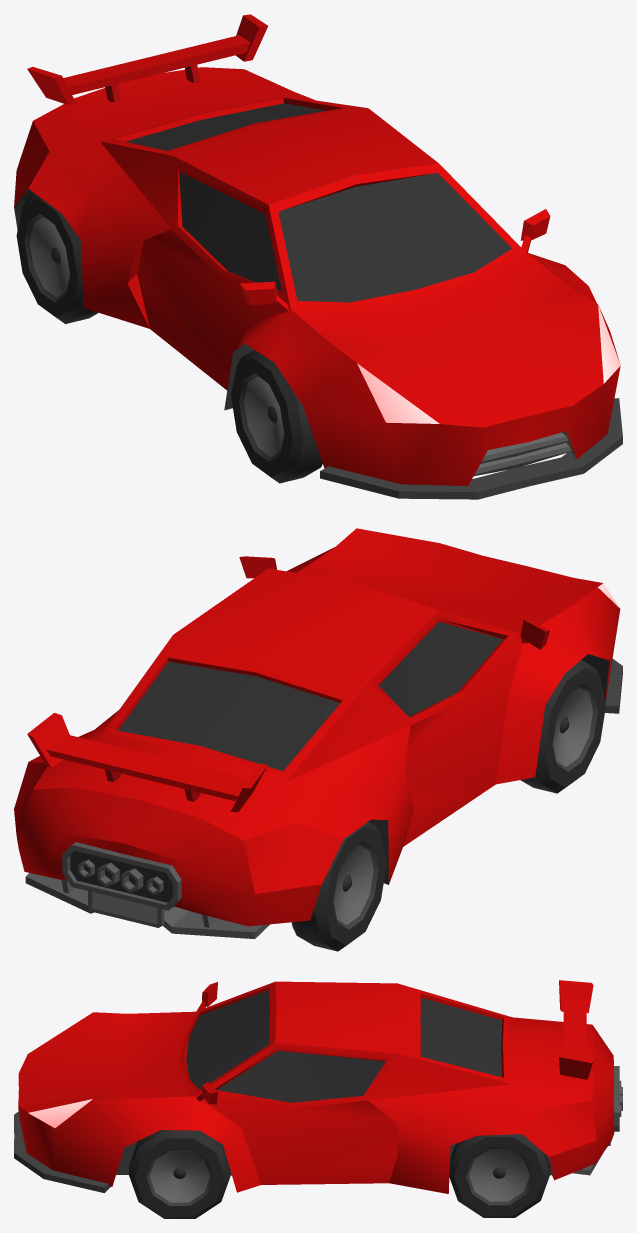
File: car_cube015.glb
The picture shows the model from 3 angles, top to bottom: view 1: azimuth 30°, elevation 25°; view 2: azimuth 150°, elevation 25°; view 3: azimuth 270°, elevation 25°; orthographic projection. The views are drawn at different scales.
Parts seen in each view (by area): view 1: Cube.015, Cylinder.023, Cylinder.027, Cube.019, Cube.017, Cube.107, Cube.018, Cube.109, Cube.108; view 2: Cube.015, Cylinder.027, Cylinder.023, Cube.017, Cube.021, Cube.112, Cube.107, Cube.130, Cube.018, Cylinder.024, Cube.019; view 3: Cube.015, Cylinder.023, Cylinder.027, Cube.019, Cube.017, Cube.107, Cube.018, Cube.021.
Part boxes in pixels (bbox=[...]): Cube.015: bbox=[14, 67, 620, 485]; Cylinder.023: bbox=[231, 350, 322, 483]; Cylinder.027: bbox=[16, 194, 98, 323]; Cube.019: bbox=[320, 398, 622, 499]; Cube.017: bbox=[63, 35, 250, 102]; Cube.107: bbox=[27, 14, 267, 104]; Cube.018: bbox=[239, 209, 550, 313]; Cube.109: bbox=[474, 442, 571, 474]; Cube.108: bbox=[481, 432, 568, 461]; Cube.015: bbox=[14, 528, 620, 926]; Cylinder.027: bbox=[291, 821, 386, 951]; Cylinder.023: bbox=[520, 660, 605, 793]; Cube.017: bbox=[46, 734, 248, 801]; Cube.021: bbox=[62, 842, 181, 910]; Cube.112: bbox=[25, 873, 269, 938]; Cube.107: bbox=[27, 713, 267, 812]; Cube.130: bbox=[88, 891, 164, 927]; Cube.018: bbox=[239, 556, 549, 649]; Cylinder.024: bbox=[97, 862, 143, 892]; Cube.019: bbox=[605, 659, 622, 713]; Cube.015: bbox=[18, 981, 614, 1193]; Cylinder.023: bbox=[128, 1130, 230, 1218]; Cylinder.027: bbox=[449, 1134, 550, 1217]; Cube.019: bbox=[14, 1111, 110, 1192]; Cube.017: bbox=[563, 997, 586, 1059]; Cube.107: bbox=[559, 980, 593, 1079]; Cube.018: bbox=[196, 982, 217, 1104]; Cube.021: bbox=[613, 1066, 619, 1131].
Bounding box in the file's own units: 2.07 × 1.33 × 4.62.
Materials: 3 (3 with a texture image).
